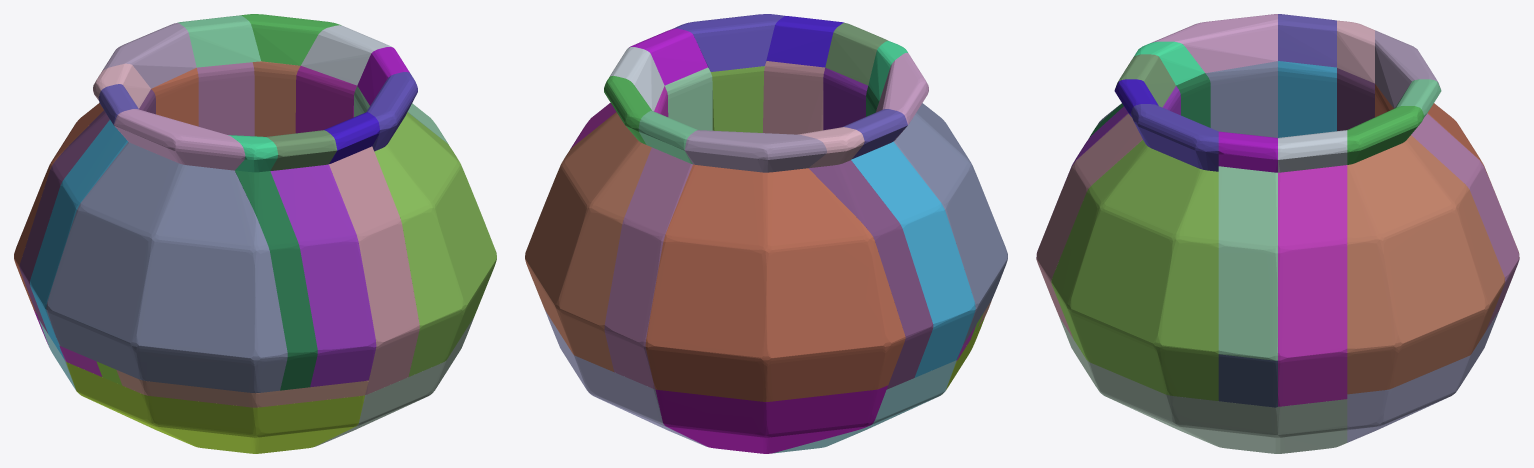
Rendered from meshes - old.glb.
3 renders of one model, left to right at view 1: azimuth 30°, elevation 25°; view 2: azimuth 150°, elevation 25°; view 3: azimuth 270°, elevation 25°, orthographic.
Visible parts, largest first — view 1: world; view 2: world; view 3: world.
Part boxes in pixels (x1,y1,x2,y2): world: [14, 14, 496, 453]; world: [525, 14, 1007, 453]; world: [1036, 14, 1519, 453].
Bounding box in the file's own units: 0.523 × 0.3919 × 0.523.
